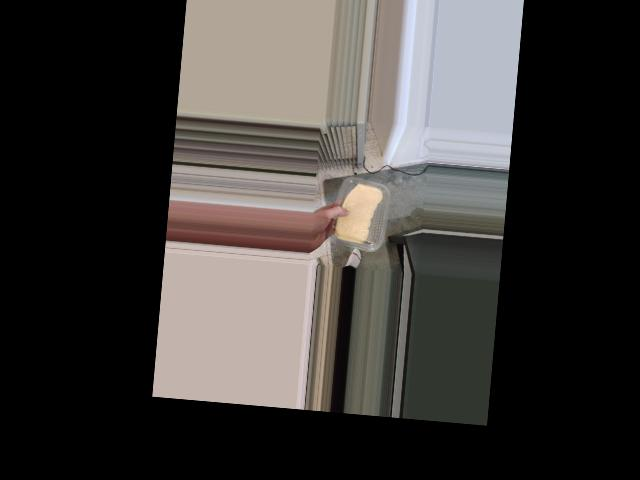cheese: (329, 176, 386, 251)
